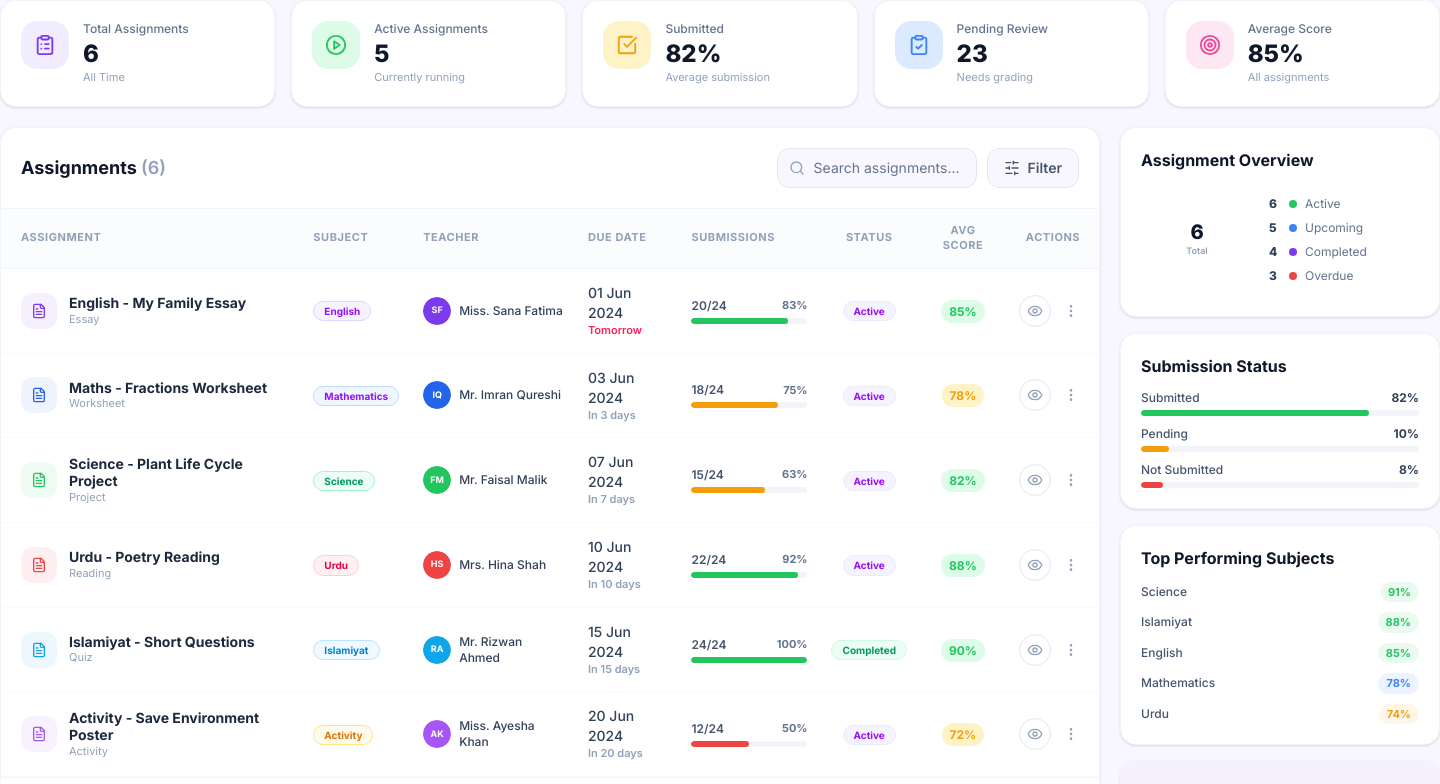
Scenario: AssignmentsPro › opens the View dialog with assignment details
Click the button titled "View details" in the row of "English - My Family Essay": coordinates (1035, 311) [1019,295,1051,327]
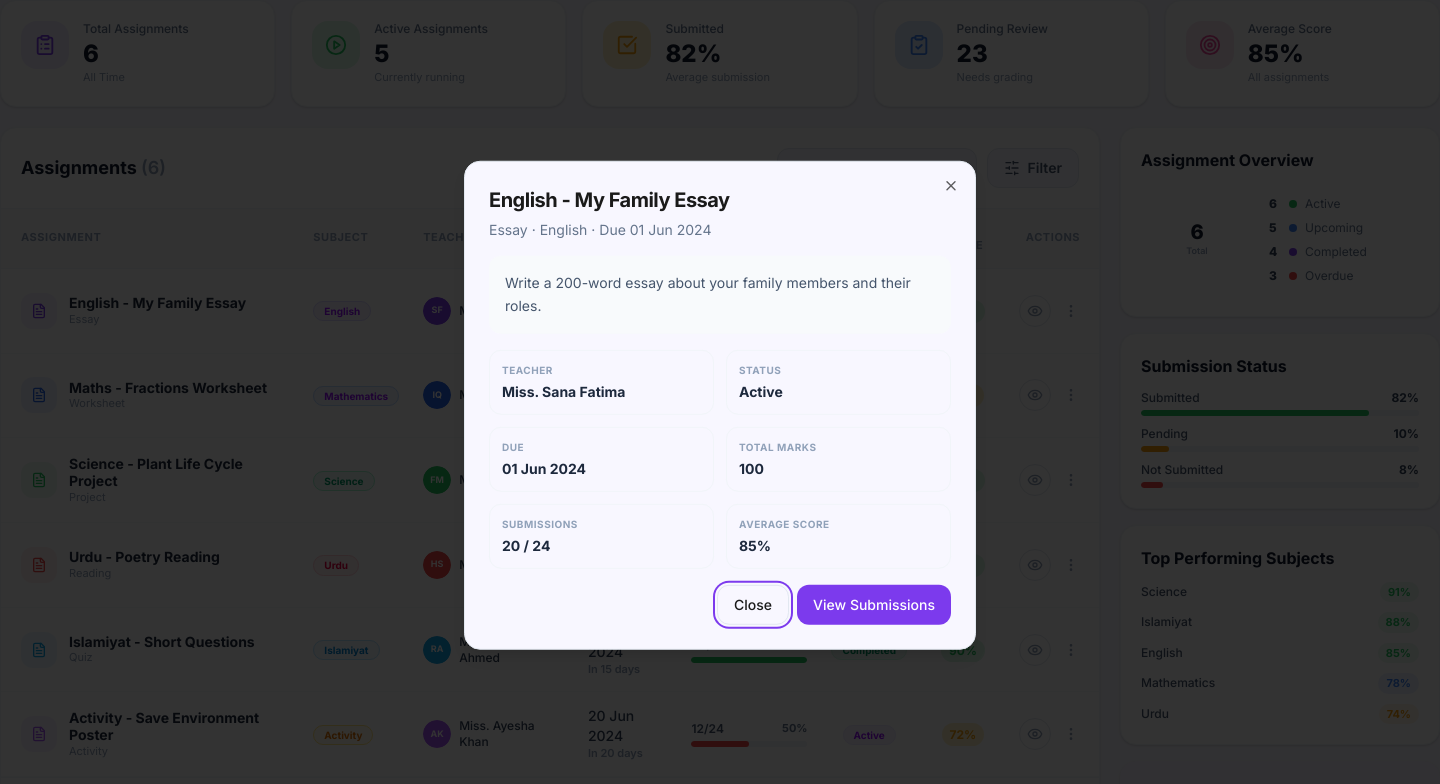
Now the text "Essay · English · Due 01 Jun 2024" is shown, box [489,221,712,238]
